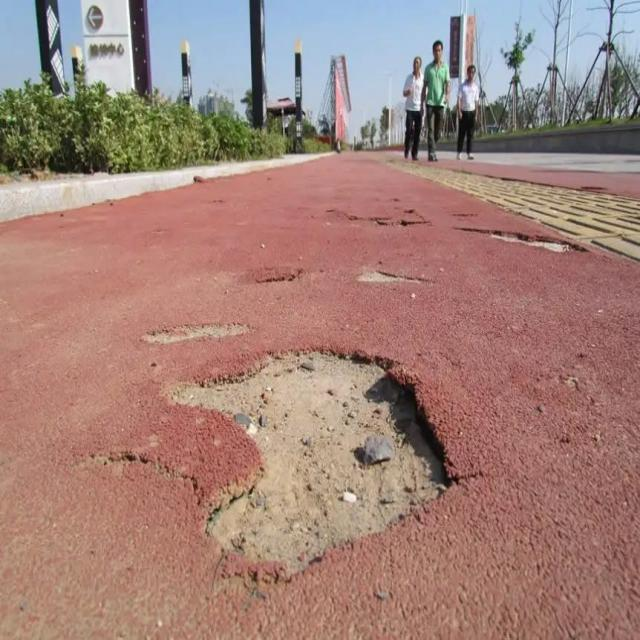pothole: (161, 348, 456, 583), (456, 222, 592, 261), (140, 316, 256, 343), (339, 208, 431, 230), (350, 269, 435, 289)
